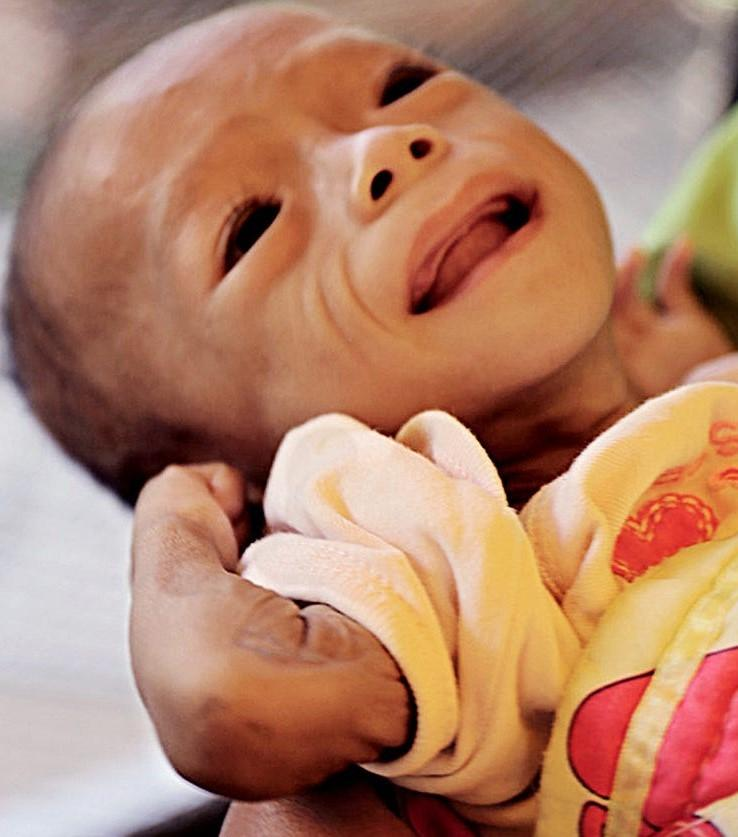Stunting: (6, 6, 628, 426)
